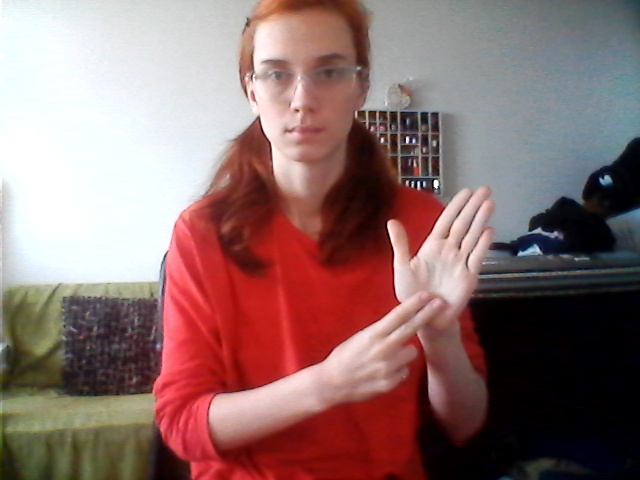n: (356, 185, 506, 396)
